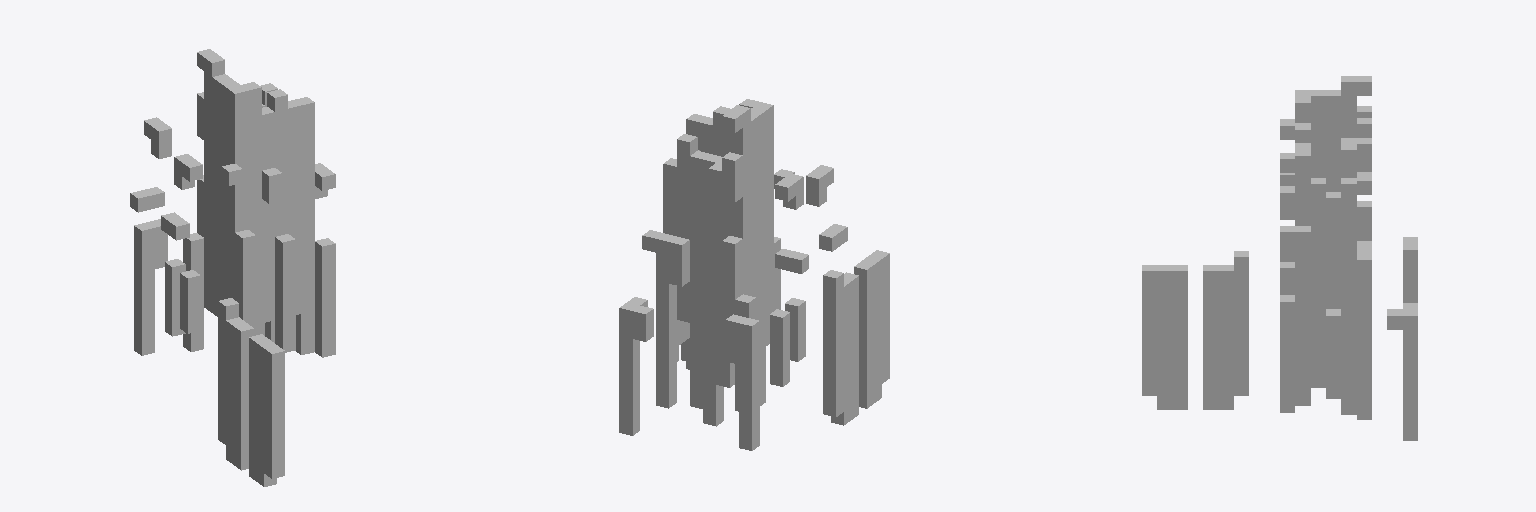
The model's file is worldtest2.obj.
3 views of the same model, side by side, from view 1: azimuth 30°, elevation 25°; view 2: azimuth 150°, elevation 25°; view 3: azimuth 270°, elevation 25° (orthographic).
Visible parts, largest first — view 1: Cube.002; view 2: Cube.002; view 3: Cube.002.
Boxes of the visible parts, <box> form: Cube.002: <box>130,49,335,486</box>; Cube.002: <box>619,99,889,450</box>; Cube.002: <box>1142,76,1417,440</box>.
Bounding box in the file's own units: 24 × 50 × 36.